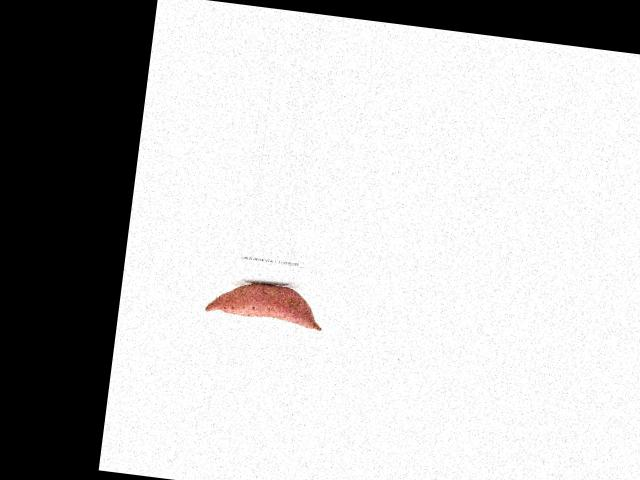sweet_potato: (202, 275, 327, 337)
